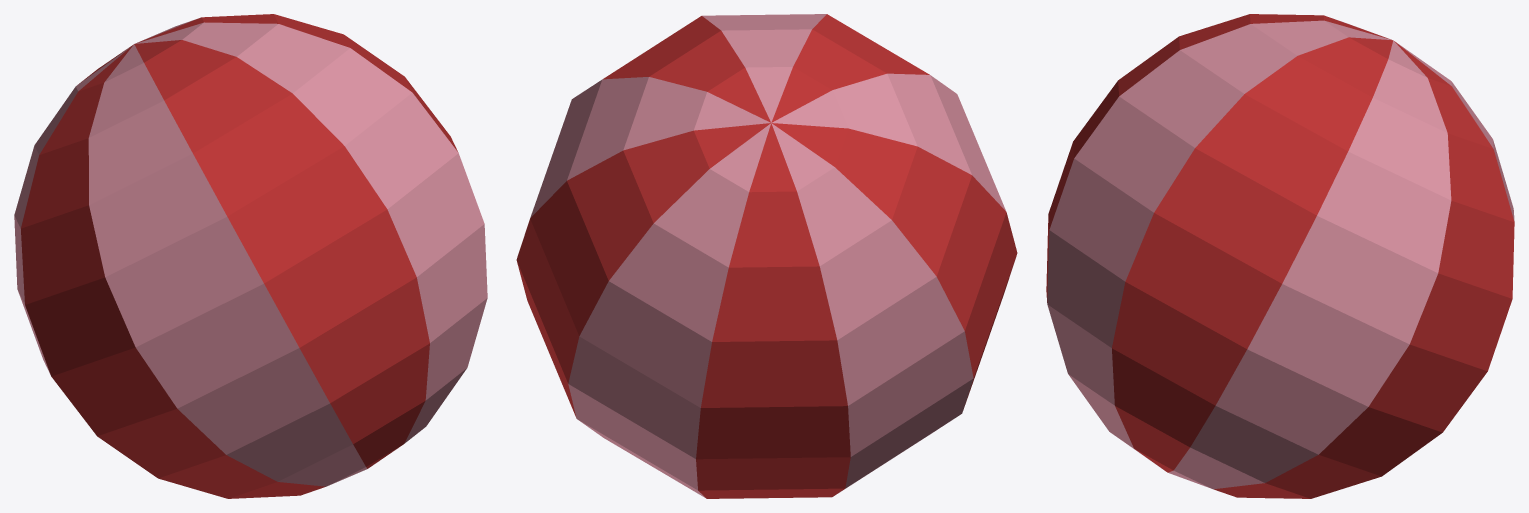
File: Ball4.fbx
3 views of the same model, side by side, from view 1: azimuth 30°, elevation 25°; view 2: azimuth 150°, elevation 25°; view 3: azimuth 270°, elevation 25° (orthographic). The views are drawn at different scales.
Parts seen in each view (by area): view 1: Ball4; view 2: Ball4; view 3: Ball4.
Boxes of the visible parts, box(x1,y1,x2,y2) form: Ball4: box(14, 14, 487, 498); Ball4: box(516, 14, 1017, 498); Ball4: box(1046, 14, 1514, 498).
Size of the model in its own units: 14.89 by 14.37 by 14.78.
